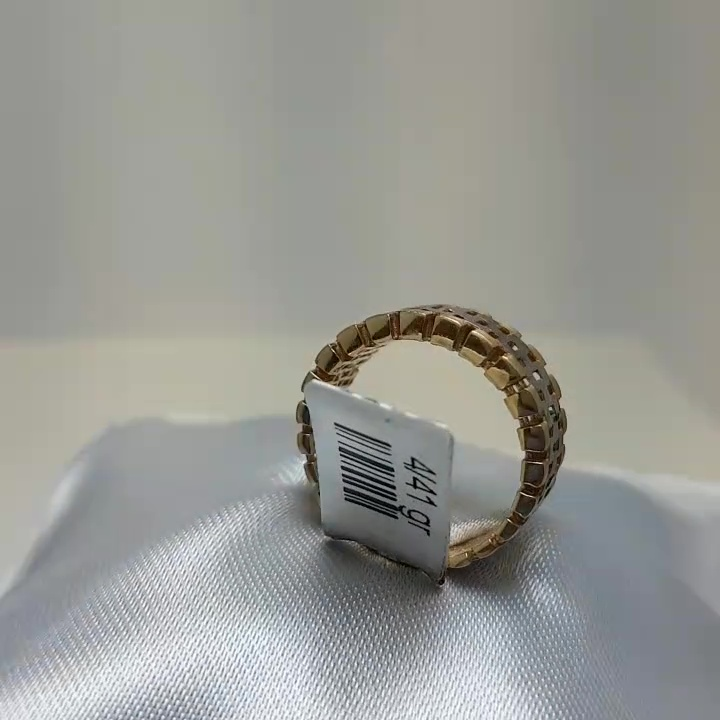Ring 1: (250, 296, 574, 584)
